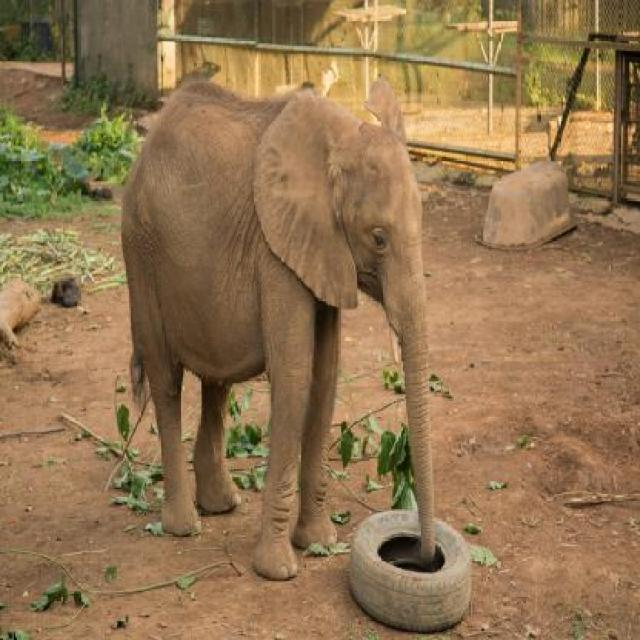Elephant: (118, 64, 456, 591)
